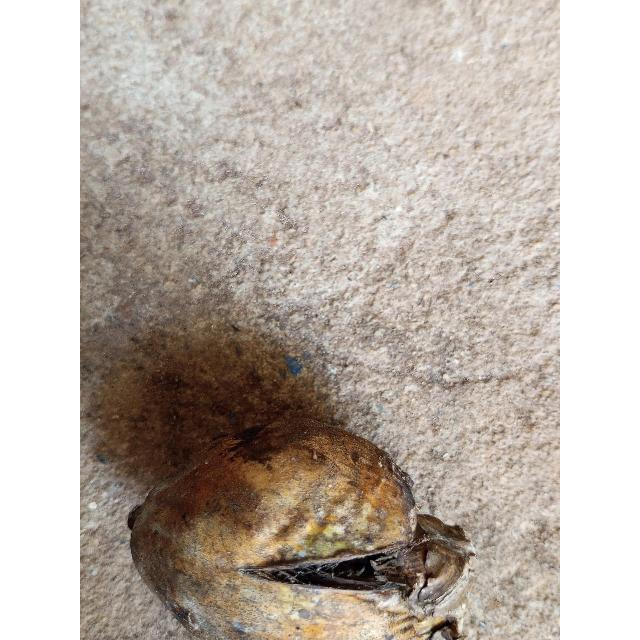damaged: (129, 419, 474, 640)
